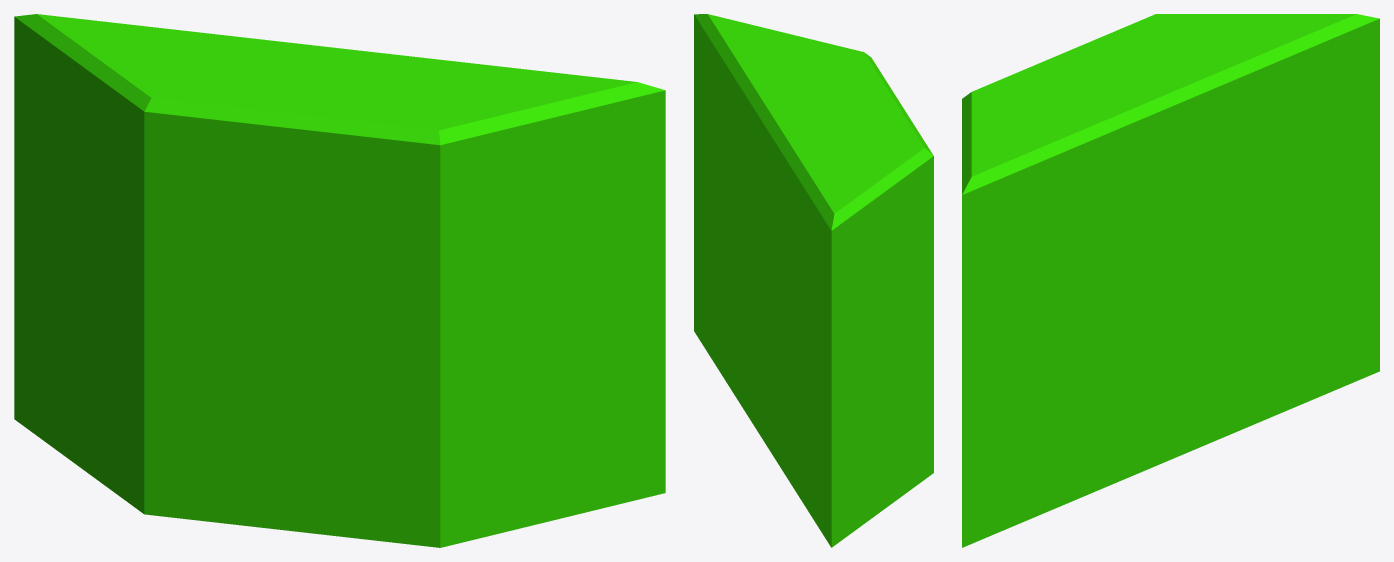
The model's file is diagonal_2x2.fbx.
3 renders of one model, left to right at view 1: azimuth 30°, elevation 25°; view 2: azimuth 150°, elevation 25°; view 3: azimuth 270°, elevation 25°, orthographic. The views are drawn at different scales.
Visible parts, largest first — view 1: diagonal_2x2; view 2: diagonal_2x2; view 3: diagonal_2x2.
Part boxes in pixels (<box>): diagonal_2x2: <box>14,14,665,547</box>; diagonal_2x2: <box>694,14,933,547</box>; diagonal_2x2: <box>962,14,1379,547</box>.
Size of the model in its own units: 220 by 210 by 220.
